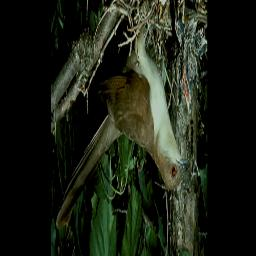Cuckoo: (56, 29, 191, 232)
